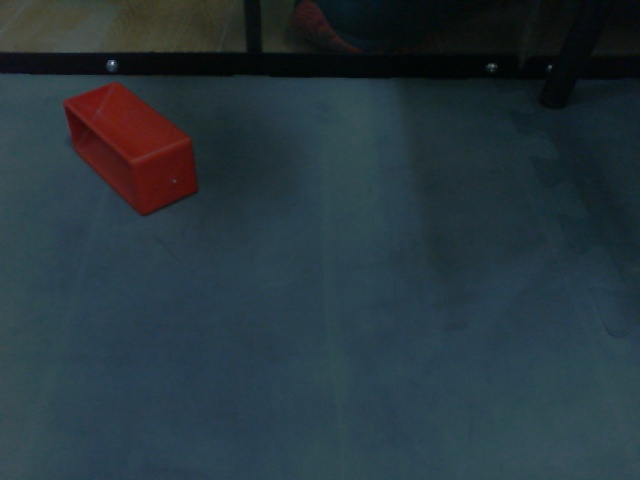RedSample: (61, 80, 201, 218)
